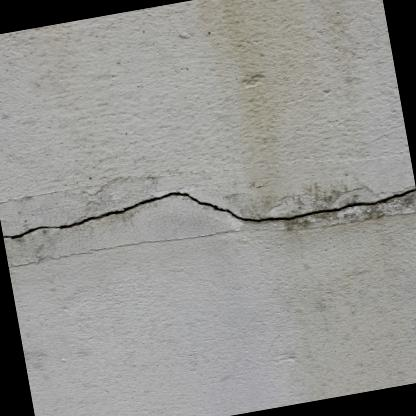crack: (2, 189, 416, 241)
